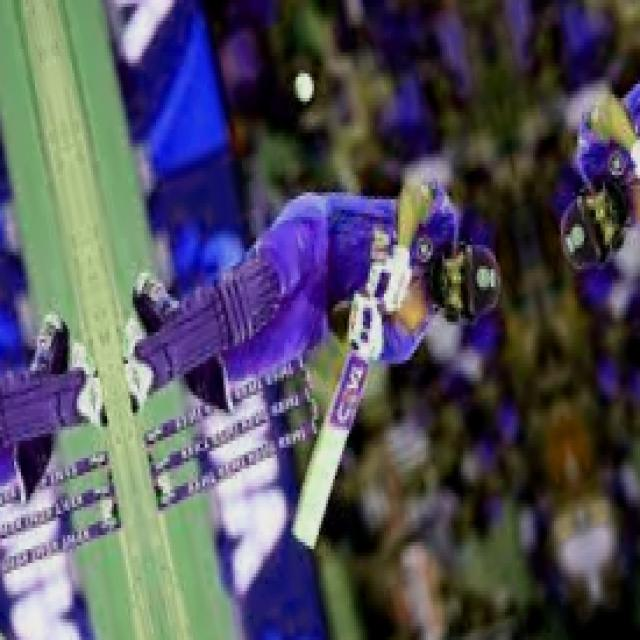toe: (288, 527, 317, 552)
